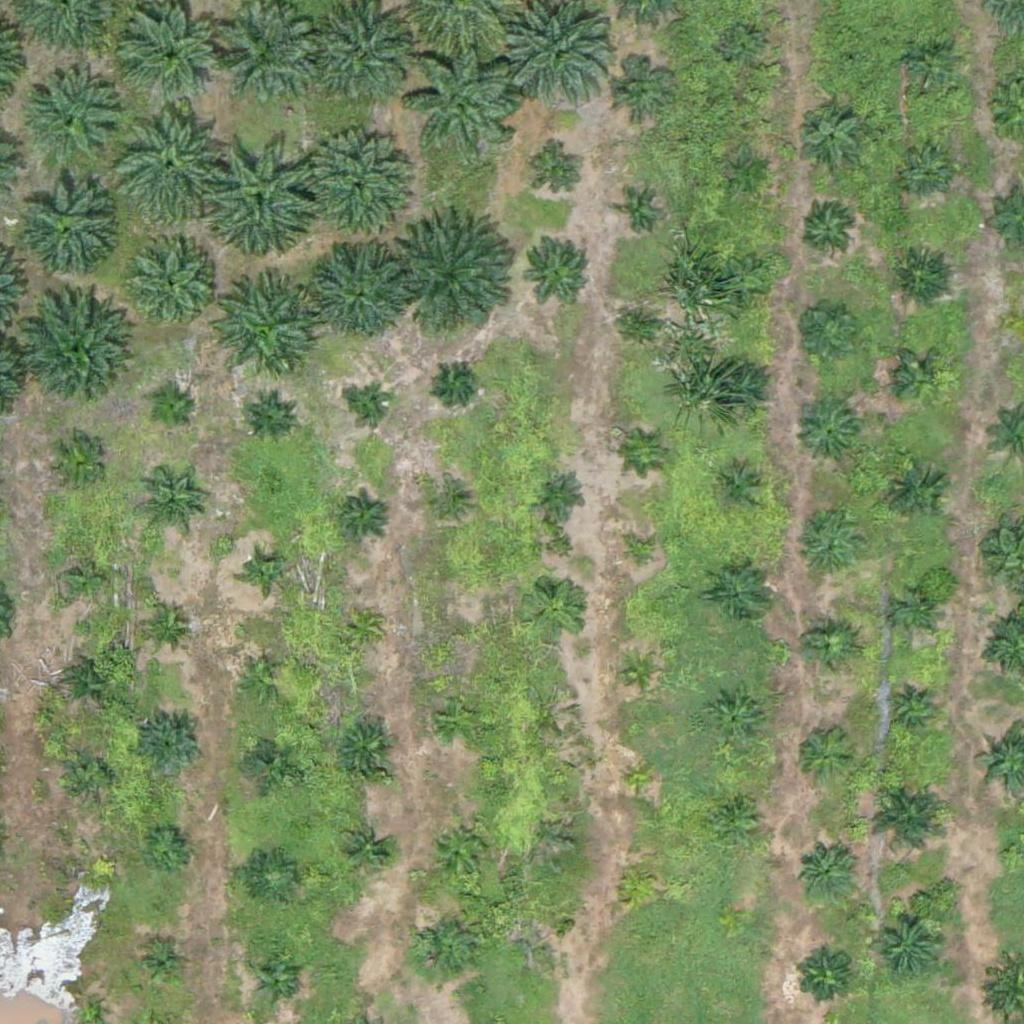Kelapa_Sawit: (200, 135, 325, 261), (108, 101, 233, 227), (396, 216, 521, 341), (17, 297, 130, 411), (408, 43, 521, 156), (297, 129, 410, 242), (505, 3, 617, 116), (206, 279, 318, 392), (307, 240, 407, 341), (313, 5, 413, 106), (212, 4, 312, 105), (122, 7, 222, 108), (121, 234, 221, 335), (22, 70, 122, 171), (14, 179, 114, 279), (866, 775, 953, 863), (788, 296, 863, 372), (869, 906, 944, 981), (520, 232, 595, 307), (792, 724, 855, 787), (797, 517, 860, 580), (795, 841, 858, 904), (138, 477, 201, 540), (44, 431, 107, 494), (411, 915, 474, 978), (710, 560, 773, 623), (140, 713, 203, 776), (706, 690, 769, 753), (711, 360, 774, 423), (607, 59, 670, 122), (890, 244, 953, 307), (900, 34, 963, 97), (55, 548, 118, 611), (796, 401, 858, 464), (793, 944, 855, 1007), (886, 461, 948, 524), (335, 717, 397, 780), (429, 818, 491, 881), (797, 103, 859, 166), (525, 578, 587, 641), (247, 852, 297, 903), (715, 464, 765, 515), (245, 734, 295, 785), (65, 656, 115, 707), (534, 149, 584, 200), (722, 258, 772, 309), (141, 599, 191, 650), (66, 750, 116, 801), (142, 823, 192, 874), (340, 823, 390, 874), (252, 955, 302, 1006), (804, 623, 854, 673), (896, 353, 946, 403), (245, 392, 295, 442), (339, 490, 389, 540), (709, 791, 759, 841), (804, 205, 854, 255), (898, 146, 948, 196), (535, 469, 585, 519), (435, 694, 485, 744), (238, 654, 288, 704), (146, 387, 196, 437), (137, 940, 187, 990), (885, 684, 934, 735), (629, 434, 667, 472), (436, 362, 474, 400), (722, 25, 760, 63), (729, 151, 767, 189), (622, 535, 660, 573), (620, 654, 658, 692), (622, 761, 660, 799), (618, 861, 656, 899), (344, 608, 382, 646), (247, 553, 285, 591), (353, 388, 390, 426), (895, 593, 932, 631), (430, 486, 467, 524), (442, 615, 479, 653), (525, 913, 562, 951), (620, 196, 657, 233), (624, 306, 661, 343), (839, 51, 864, 76), (74, 997, 99, 1022)
